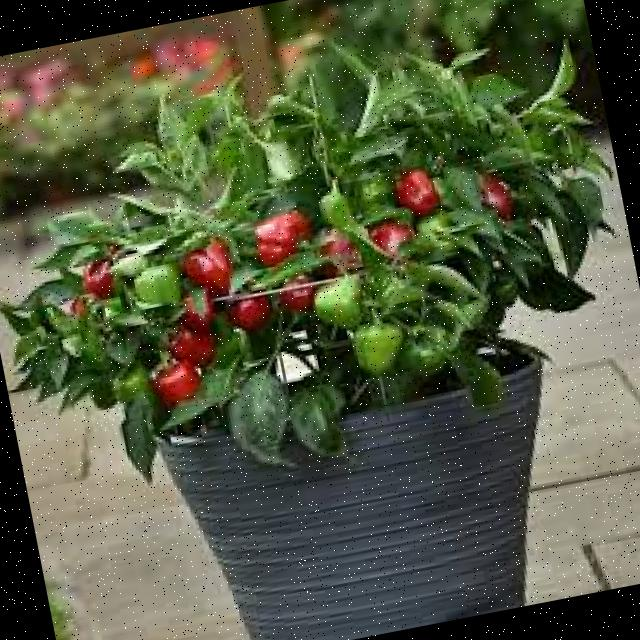plant: (2, 47, 624, 491)
